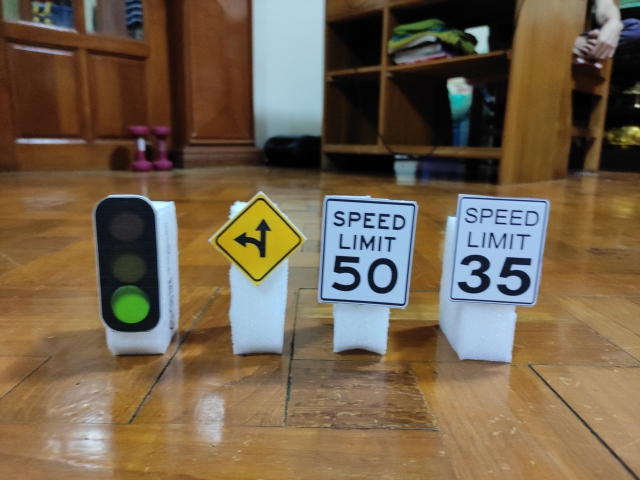Green Traffic Light: (93, 194, 162, 334)
Speed Limit 35: (449, 194, 549, 307)
Speed Limit 50: (318, 195, 417, 309)
Straight Or Left Sign: (209, 194, 307, 286)
